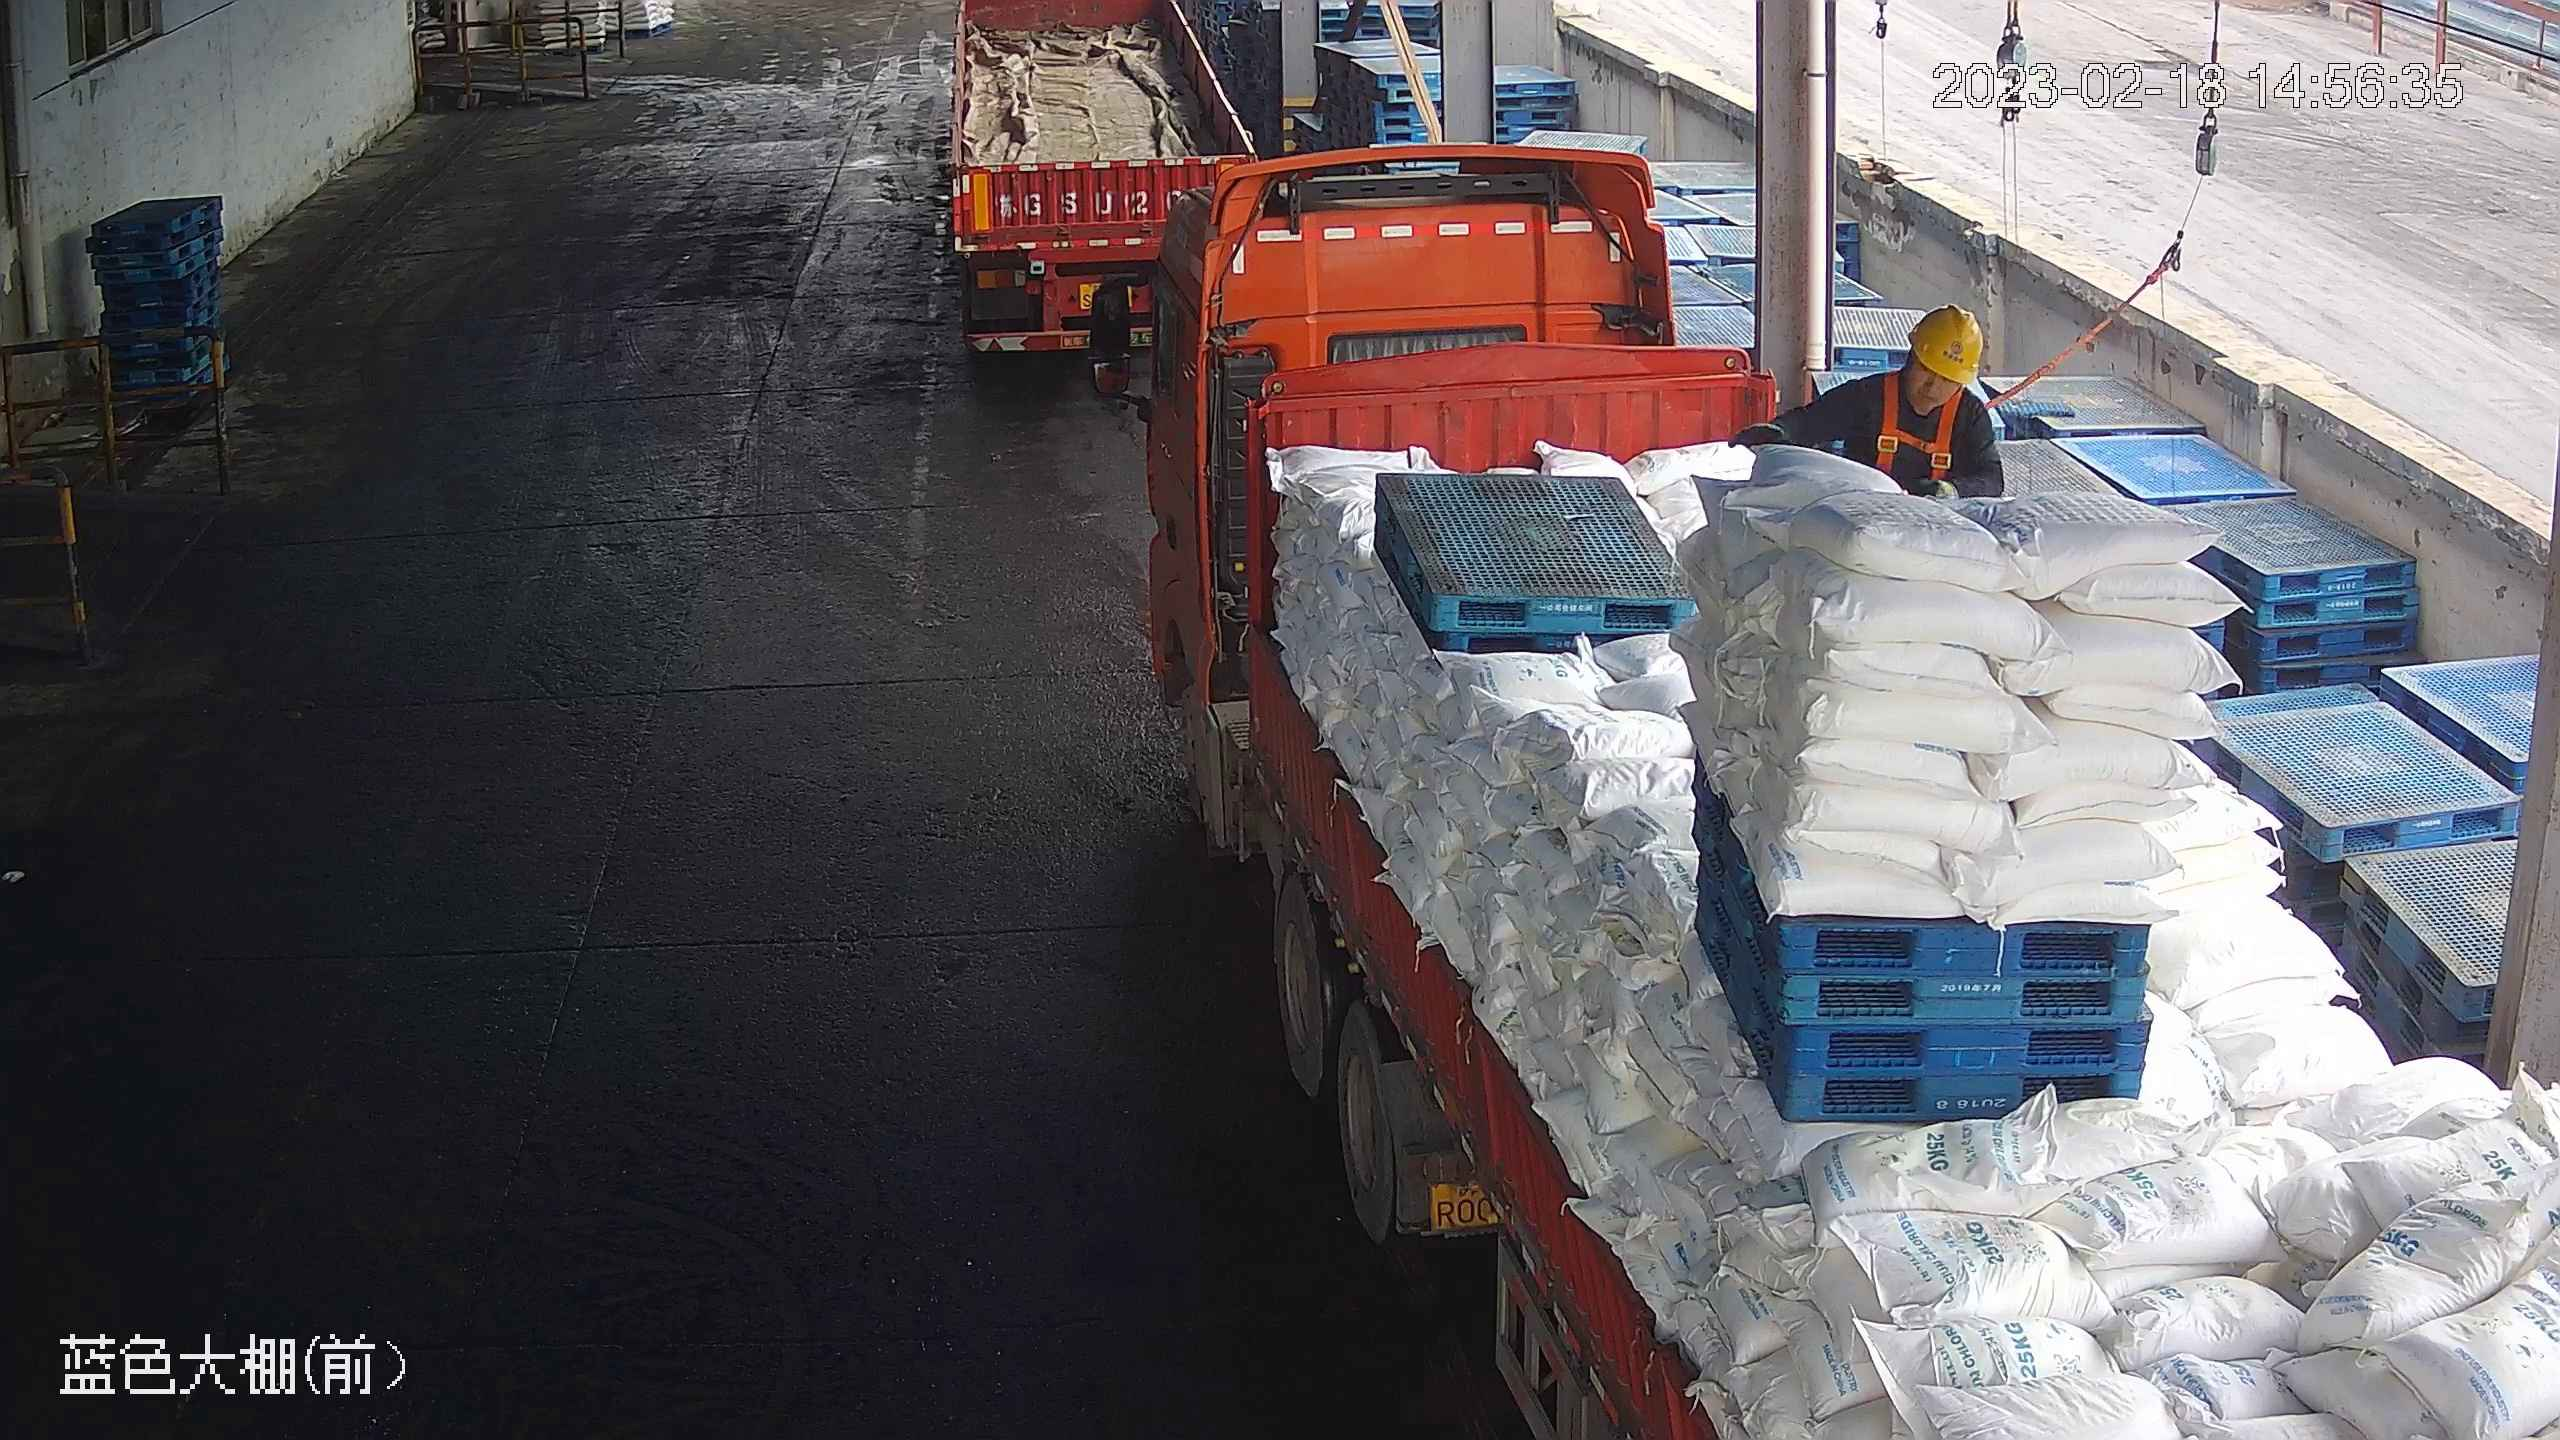belt: (1869, 375, 1964, 490)
head: (1828, 299, 2004, 457)
helmet: (1909, 301, 1988, 385)
truck: (1065, 159, 2555, 1440), (916, 1, 1272, 369)
